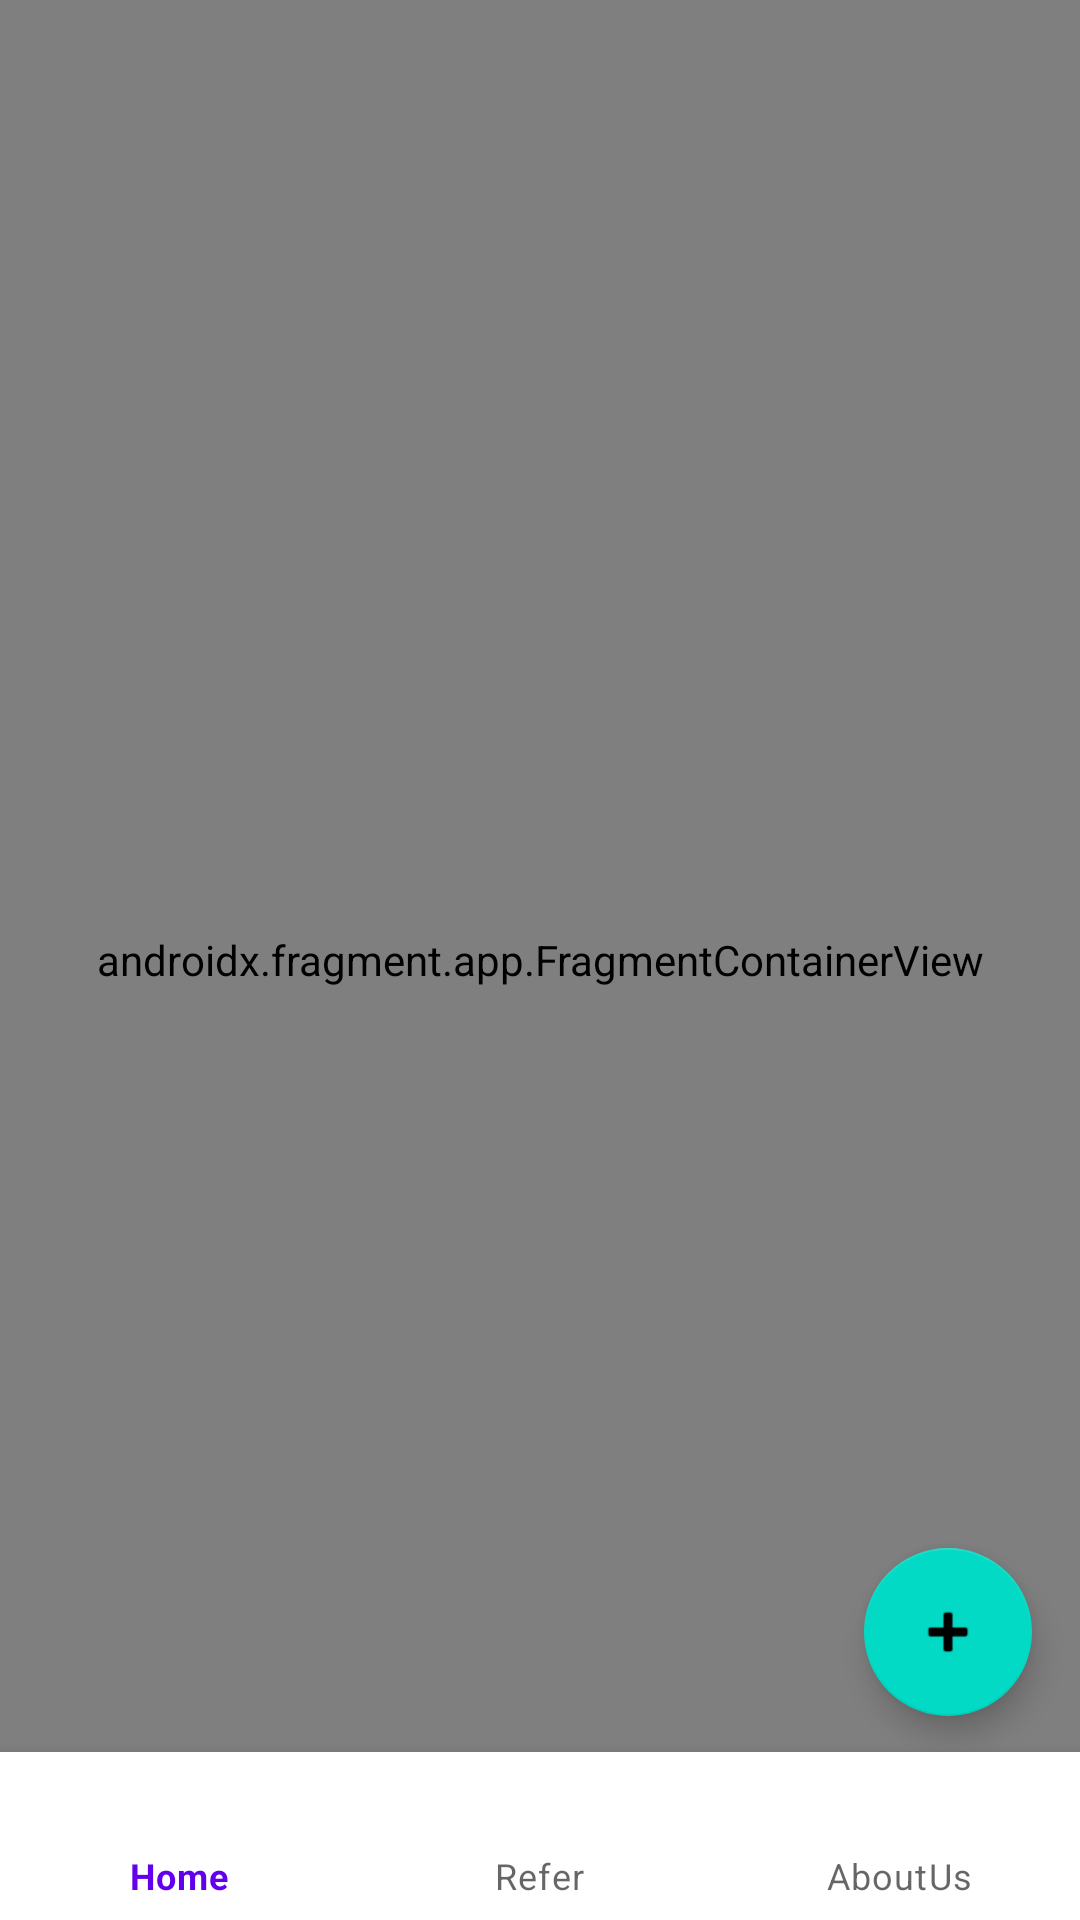

Locate icon controls on the screen. Image size 1080px×1920px, boxes as (x1,y1,x2,y2).
add: (864,1548,1032,1716)
